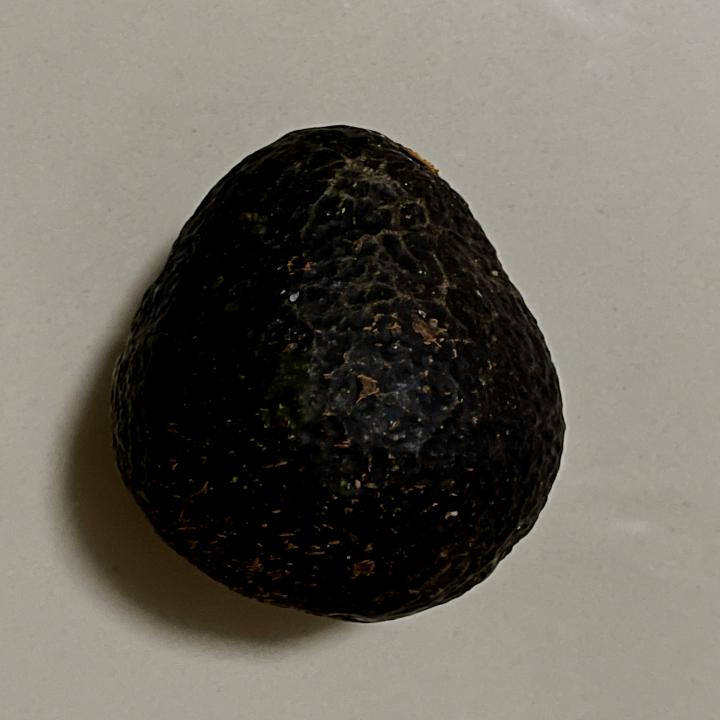Level1: (102, 109, 580, 634)
